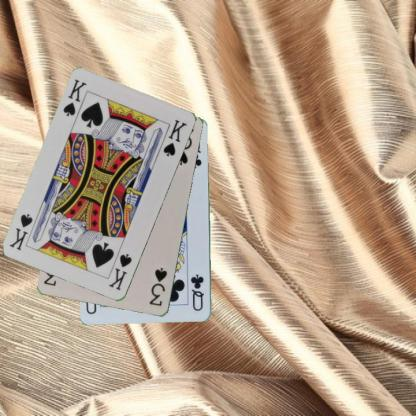3s: (146, 266, 168, 308)
Ks: (106, 251, 133, 292), (61, 77, 88, 118)
Qc: (188, 272, 205, 313)
